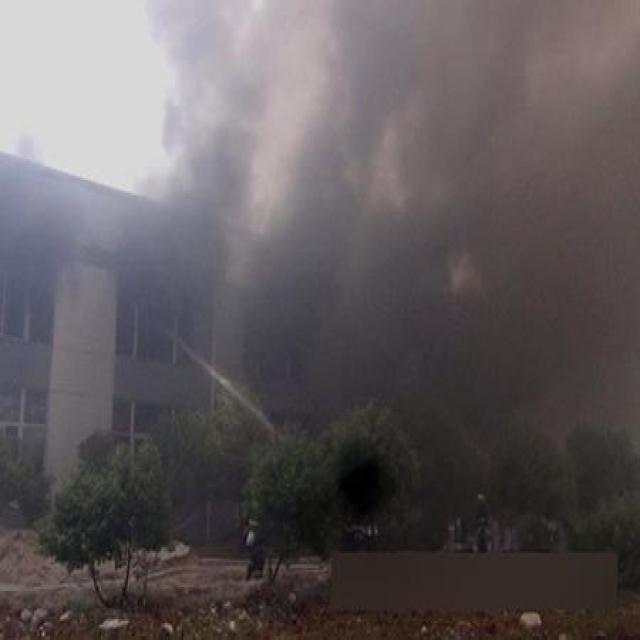Smoke: (142, 2, 640, 424)
